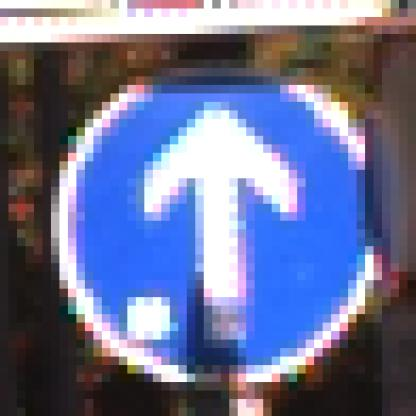AheadOnly: (44, 44, 375, 375)
